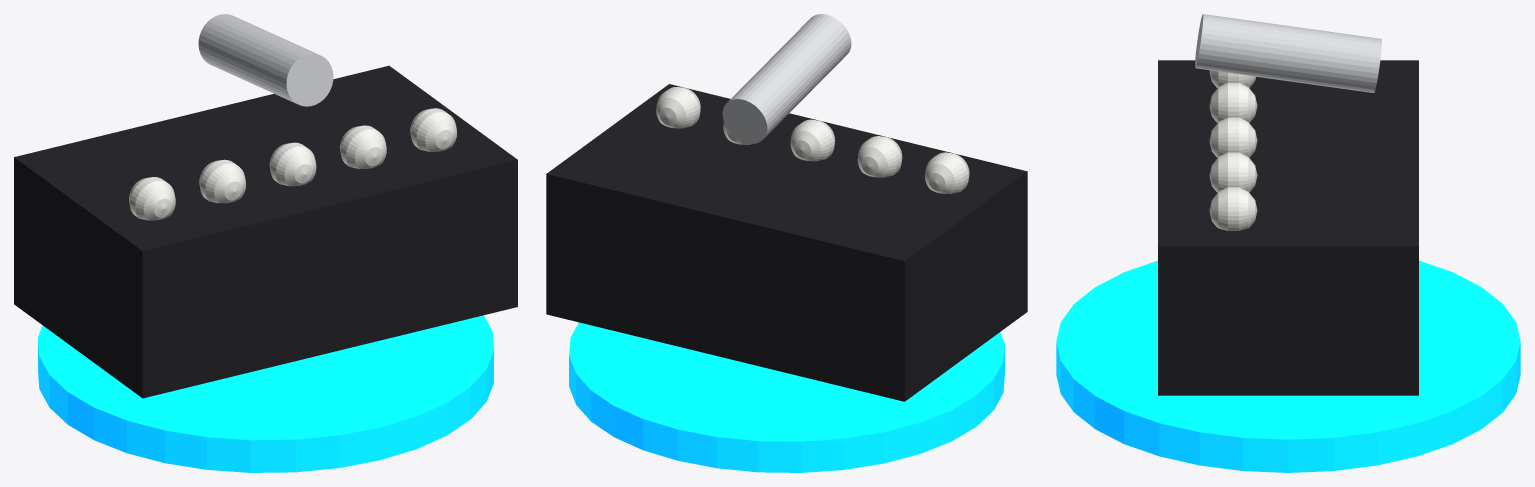
File: news_typewriter.glb
3 views of the same model, side by side, from view 1: azimuth 30°, elevation 25°; view 2: azimuth 150°, elevation 25°; view 3: azimuth 270°, elevation 25° (orthographic). The views are drawn at different scales.
Visible parts, largest first — view 1: 09_17_Popular_News_Typewriter_part_01, 09_17_Popular_News_Typewriter_ROOT_base, 09_17_Popular_News_Typewriter_part_02, 09_17_Popular_News_Typewriter_part_03, 09_17_Popular_News_Typewriter_part_05, 09_17_Popular_News_Typewriter_part_07, 09_17_Popular_News_Typewriter_part_04, 09_17_Popular_News_Typewriter_part_06; view 2: 09_17_Popular_News_Typewriter_part_01, 09_17_Popular_News_Typewriter_ROOT_base, 09_17_Popular_News_Typewriter_part_02, 09_17_Popular_News_Typewriter_part_05, 09_17_Popular_News_Typewriter_part_04, 09_17_Popular_News_Typewriter_part_07, 09_17_Popular_News_Typewriter_part_03; view 3: 09_17_Popular_News_Typewriter_part_01, 09_17_Popular_News_Typewriter_ROOT_base, 09_17_Popular_News_Typewriter_part_02, 09_17_Popular_News_Typewriter_part_07, 09_17_Popular_News_Typewriter_part_05, 09_17_Popular_News_Typewriter_part_04, 09_17_Popular_News_Typewriter_part_06, 09_17_Popular_News_Typewriter_part_03.
Boxes of the visible parts, bbox=[...] form: 09_17_Popular_News_Typewriter_part_01: bbox=[14, 65, 517, 398]; 09_17_Popular_News_Typewriter_ROOT_base: bbox=[38, 315, 493, 472]; 09_17_Popular_News_Typewriter_part_02: bbox=[198, 14, 333, 106]; 09_17_Popular_News_Typewriter_part_03: bbox=[129, 177, 175, 220]; 09_17_Popular_News_Typewriter_part_05: bbox=[269, 142, 316, 186]; 09_17_Popular_News_Typewriter_part_07: bbox=[410, 108, 456, 151]; 09_17_Popular_News_Typewriter_part_04: bbox=[199, 159, 245, 203]; 09_17_Popular_News_Typewriter_part_06: bbox=[340, 125, 386, 169]; 09_17_Popular_News_Typewriter_part_01: bbox=[546, 84, 1027, 401]; 09_17_Popular_News_Typewriter_ROOT_base: bbox=[569, 322, 1004, 472]; 09_17_Popular_News_Typewriter_part_02: bbox=[722, 14, 851, 143]; 09_17_Popular_News_Typewriter_part_05: bbox=[790, 119, 835, 161]; 09_17_Popular_News_Typewriter_part_04: bbox=[857, 136, 902, 177]; 09_17_Popular_News_Typewriter_part_07: bbox=[656, 87, 700, 128]; 09_17_Popular_News_Typewriter_part_03: bbox=[925, 152, 969, 193]; 09_17_Popular_News_Typewriter_part_01: bbox=[1158, 60, 1418, 395]; 09_17_Popular_News_Typewriter_ROOT_base: bbox=[1056, 260, 1520, 472]; 09_17_Popular_News_Typewriter_part_02: bbox=[1195, 14, 1381, 92]; 09_17_Popular_News_Typewriter_part_07: bbox=[1209, 187, 1257, 230]; 09_17_Popular_News_Typewriter_part_05: bbox=[1209, 117, 1257, 157]; 09_17_Popular_News_Typewriter_part_04: bbox=[1209, 82, 1257, 122]; 09_17_Popular_News_Typewriter_part_06: bbox=[1209, 152, 1257, 192]; 09_17_Popular_News_Typewriter_part_03: bbox=[1209, 70, 1255, 87].
Bounding box in the file's own units: 0.76 × 0.6469 × 0.76.
